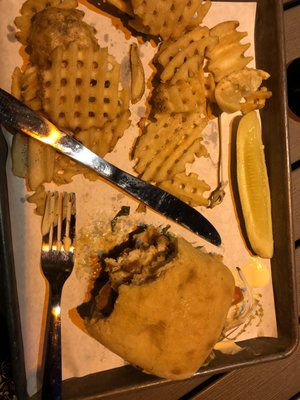burger: (0, 85, 224, 252)
salad: (0, 86, 223, 251)
